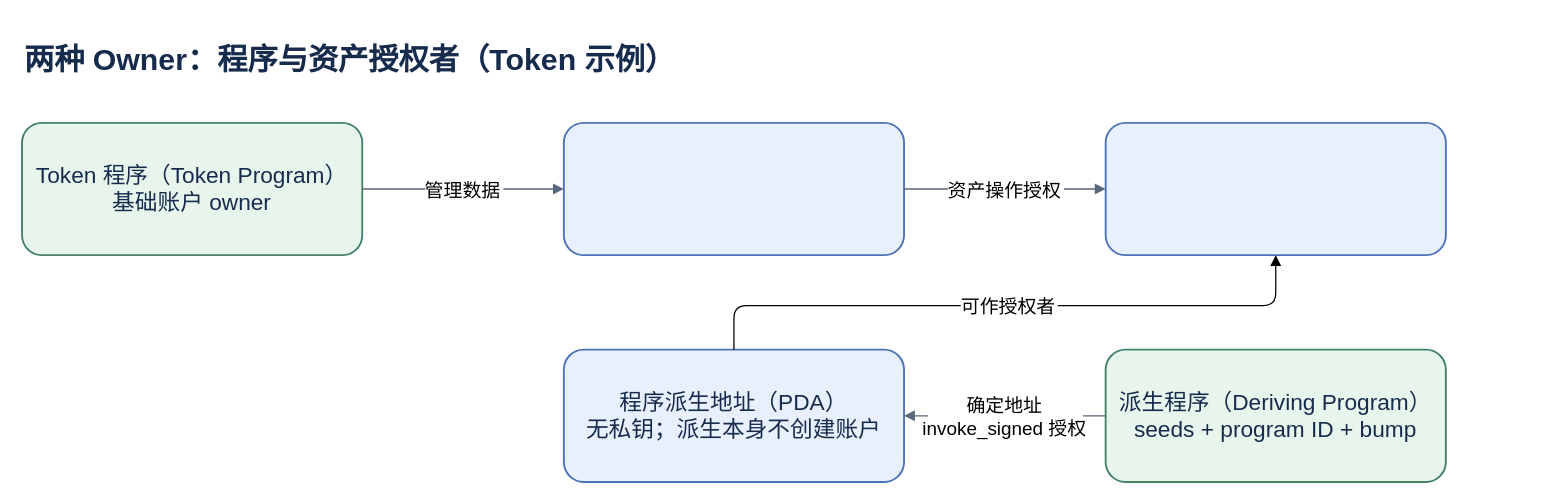
Image size: 1556x504. Some labels were removed from this diagram. The shapes that lost their labels are listed below. From the top down, each one's centre as x and y in pixels, then its label:
the point at 733,188: 代币账户（Token Account） data 中有 mint / owner / amount
the point at 1275,188: 余额授权者（Authority） data.owner；可为公钥或 PDA
